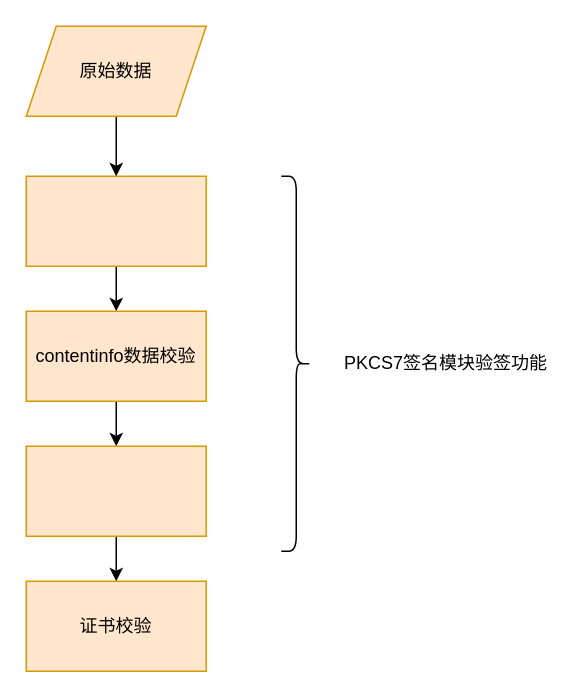
This 578x698 diagram has some shape labels left out. Here are the shapes that lost their labels. From the top down, the centre of each, then its label:
point (115, 220): sha256摘要处理
point (115, 490): 签名者信息校校验
